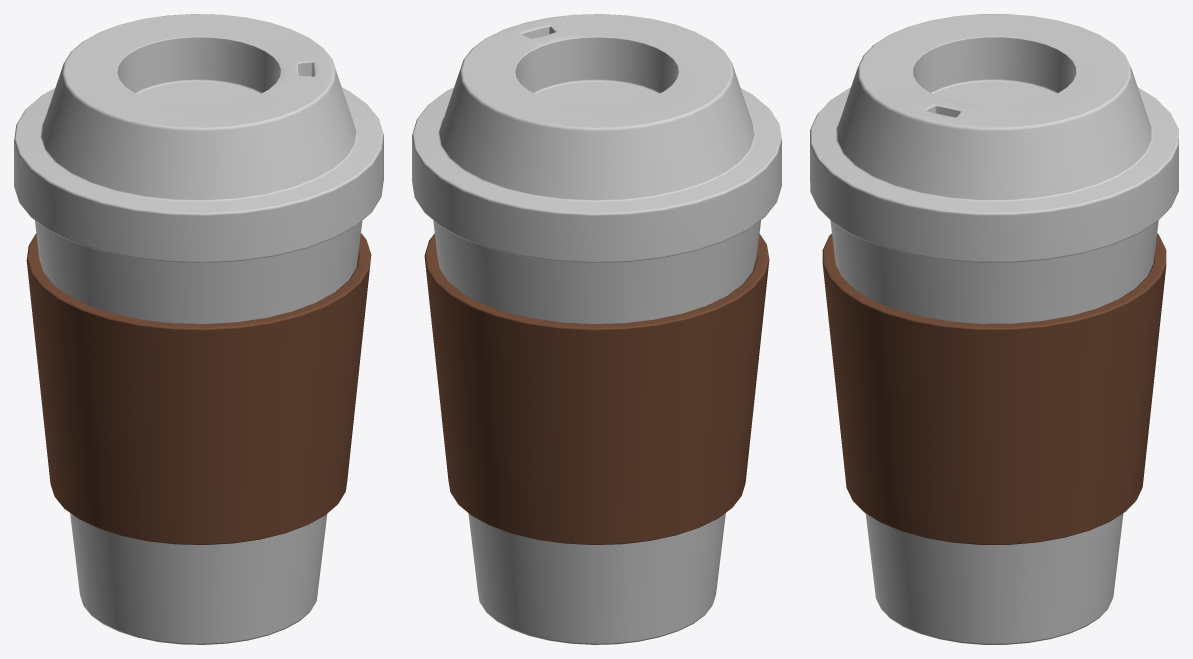
The model's file is SM_paper_cup.glb.
The picture shows the model from 3 angles, left to right: view 1: azimuth 30°, elevation 25°; view 2: azimuth 150°, elevation 25°; view 3: azimuth 270°, elevation 25°; orthographic projection.
Visible parts, largest first — view 1: SM_paper_cup; view 2: SM_paper_cup; view 3: SM_paper_cup.
Part boxes in pixels (<box>): SM_paper_cup: <box>14,14,383,644</box>; SM_paper_cup: <box>412,14,781,644</box>; SM_paper_cup: <box>810,14,1178,644</box>.
Bounding box in the file's own units: 0.1146 × 0.18 × 0.1146.
Materials: 1 (1 with a texture image).
